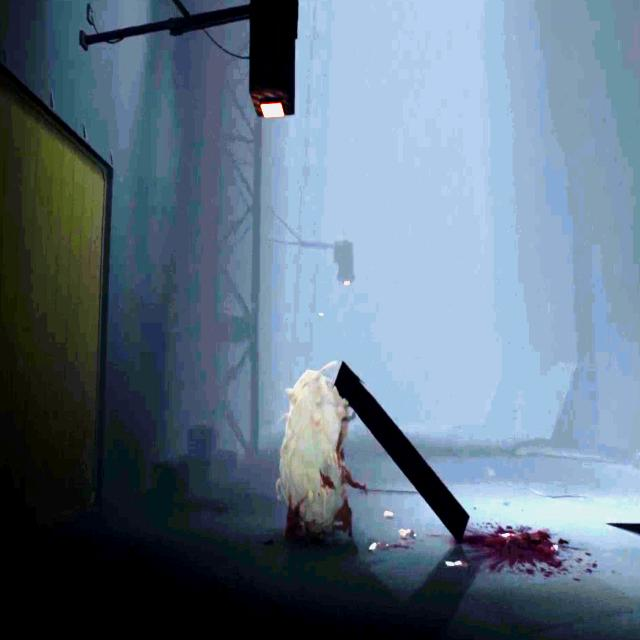blob: (278, 363, 367, 551)
interactible: (248, 0, 298, 118), (333, 242, 355, 286)
structure: (222, 0, 263, 457)
